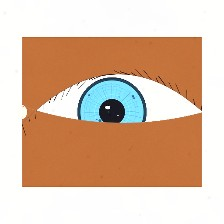pinguecula_lesion: (160, 95, 201, 128)
